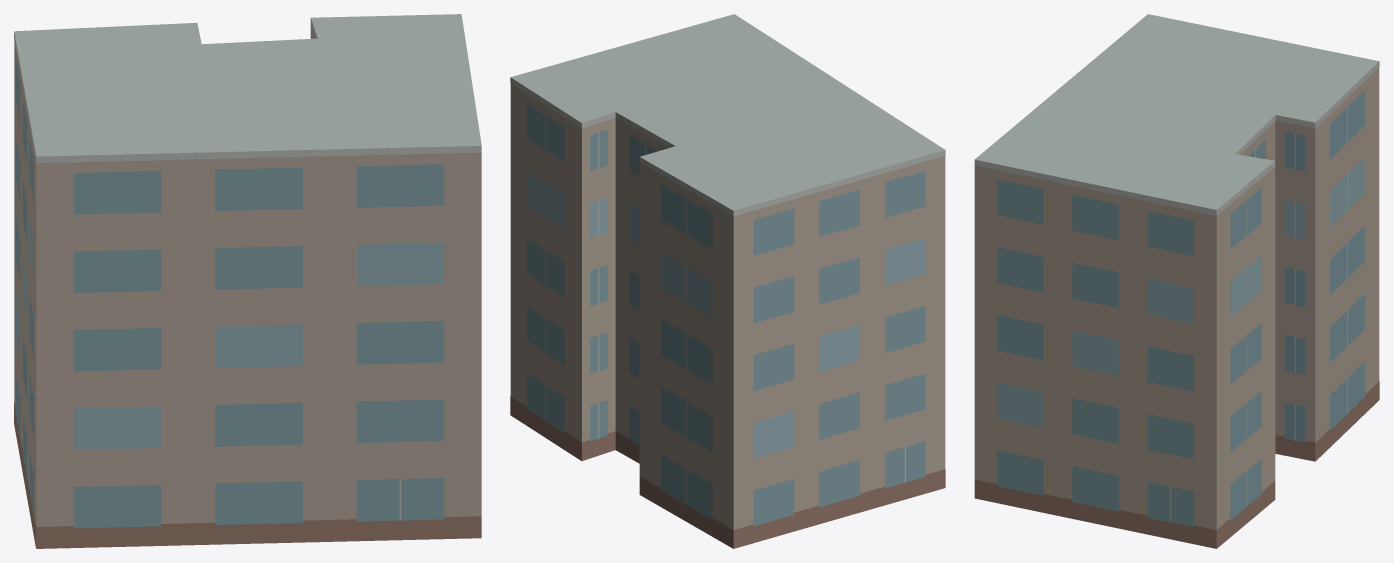
The model's file is survey-upis-32852758.glb.
3 renders of one model, left to right at view 1: azimuth 30°, elevation 25°; view 2: azimuth 150°, elevation 25°; view 3: azimuth 270°, elevation 25°, orthographic. The views are drawn at different scales.
Visible parts, largest first — view 1: survey-upis-32852758.tmp; view 2: survey-upis-32852758.tmp; view 3: survey-upis-32852758.tmp.
Boxes of the visible parts, x1,y1,x2,y2 form: survey-upis-32852758.tmp: (14,14,481,548); survey-upis-32852758.tmp: (510,14,945,548); survey-upis-32852758.tmp: (974,14,1379,548).
Size of the model in its own units: 17.87 by 14.4 by 15.6.
